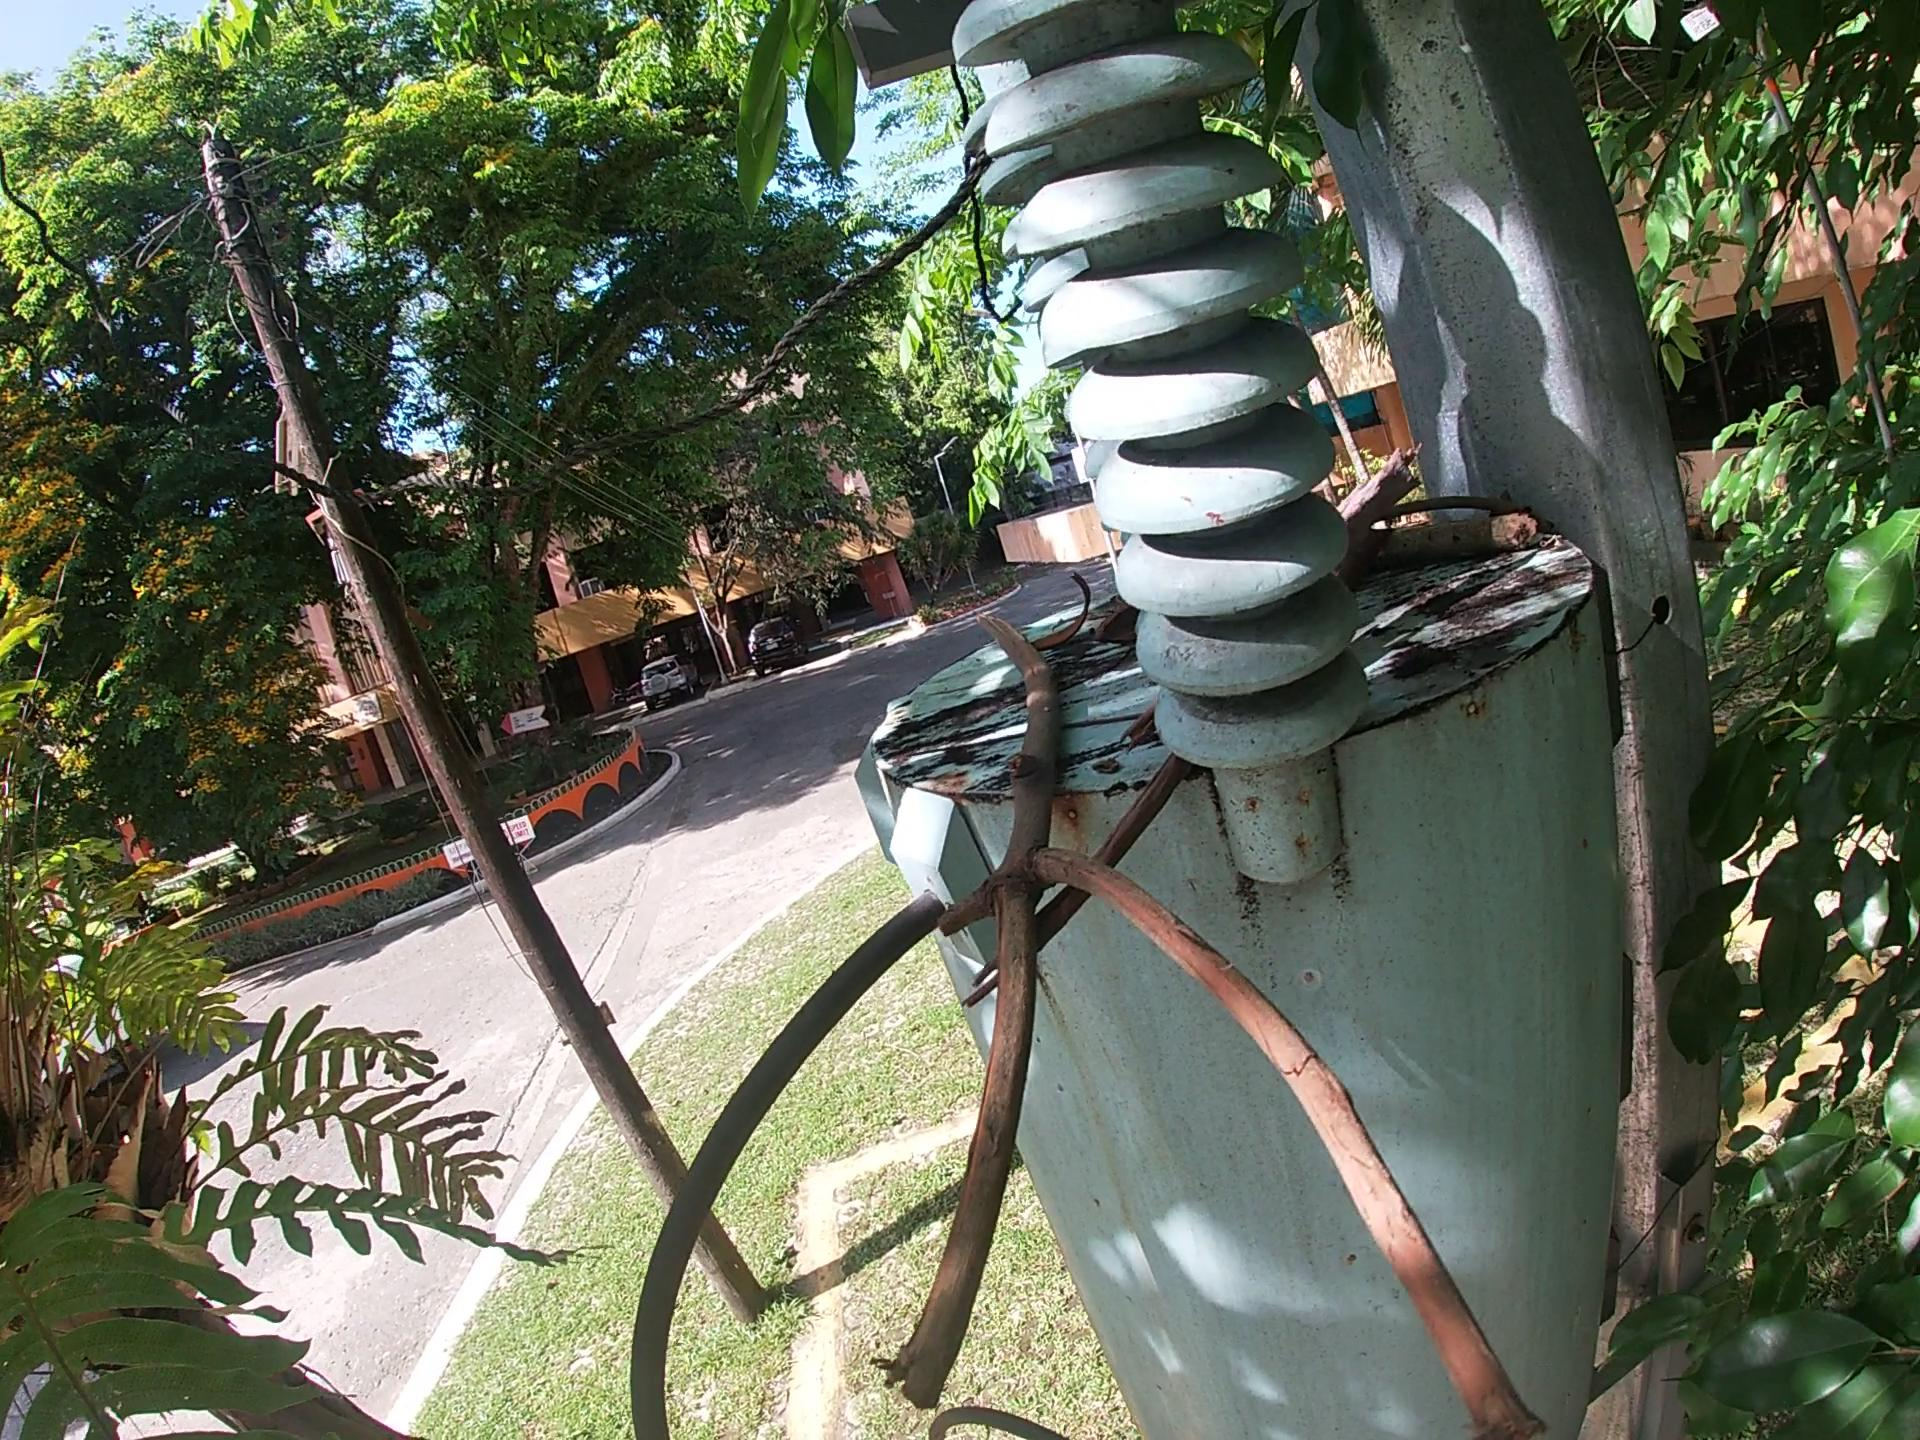mahogany fruit: (1023, 567, 1098, 663), (1089, 604, 1146, 659)
tree branch: (878, 597, 1559, 1438), (962, 740, 1217, 1019), (1327, 498, 1551, 578), (1338, 442, 1421, 535)
